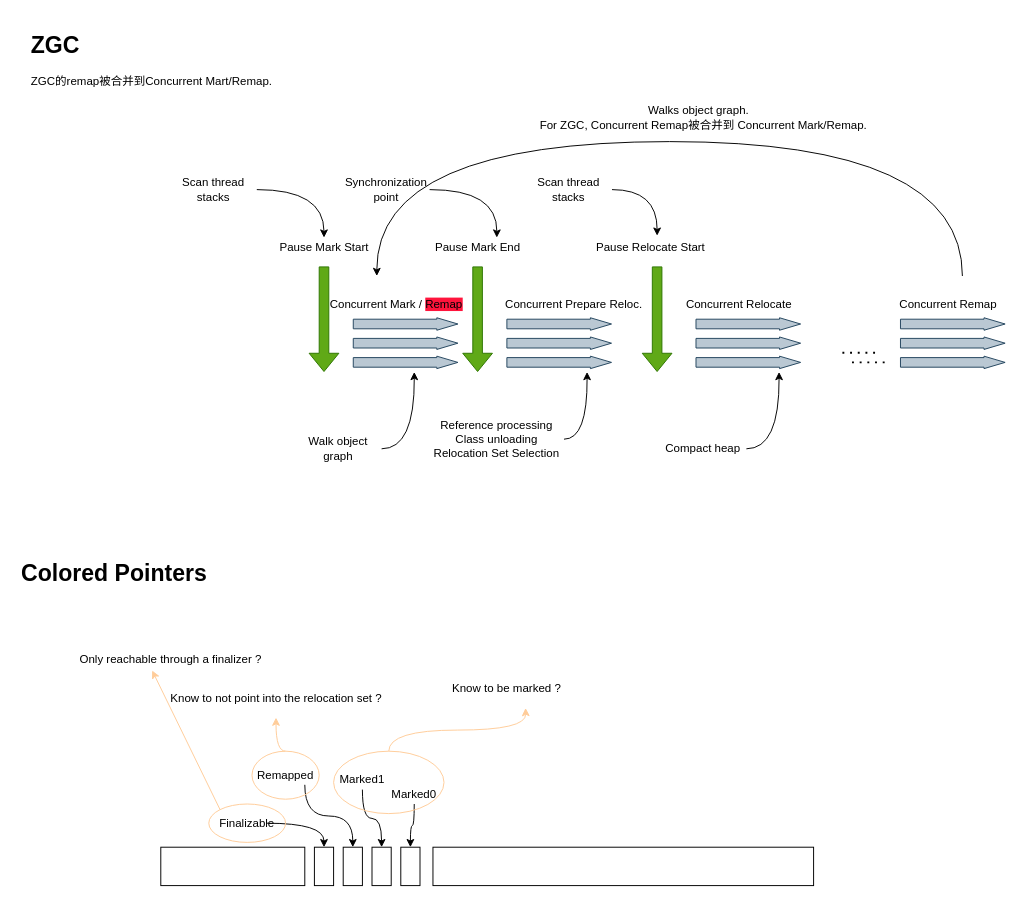
Some shapes in this 1021 by 902 pixel diagram are drawn without their labels. Each missing label, with the centre of its shape:
Object Address(44bits, 16TB address space.): the point at 623,866
Unused(16 bits): the point at 232,866
